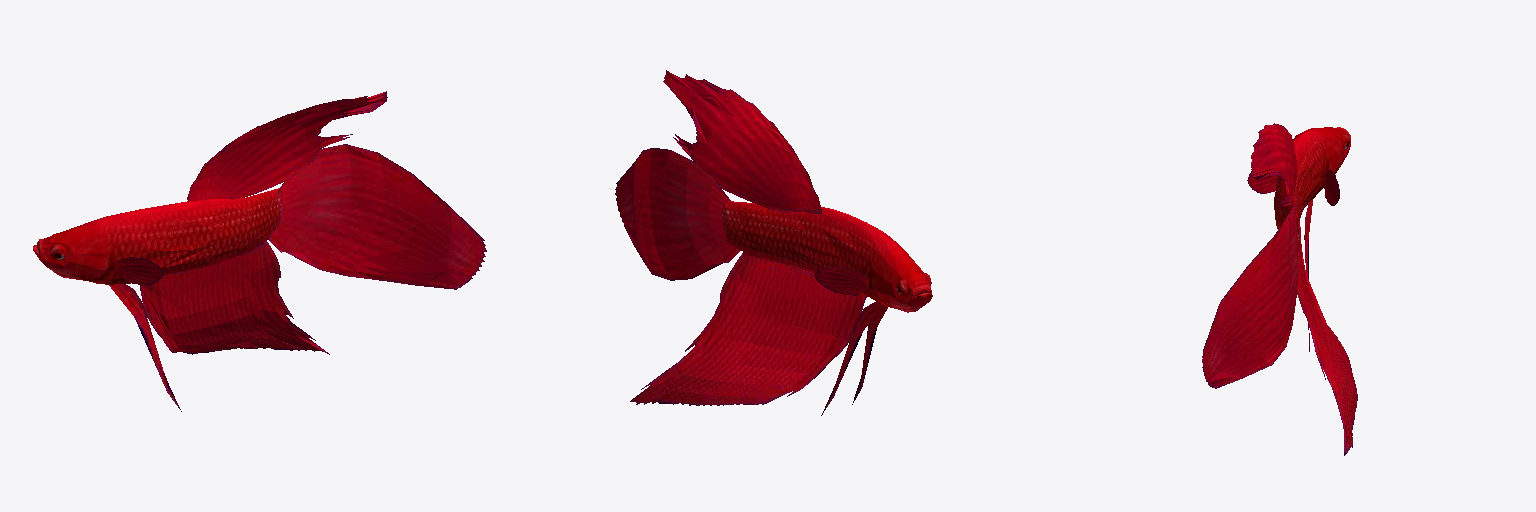
The picture shows the model from 3 angles: view 1: azimuth 30°, elevation 25°; view 2: azimuth 150°, elevation 25°; view 3: azimuth 270°, elevation 25°; orthographic projection.
Parts seen in each view (by area): view 1: object8, object, object7, object2, object5, object3; view 2: object7, object8, object, object2, object4, object6, object5; view 3: object8, object7, object, object2.
Part boxes in pixels (x1,y1,x2,y2): object8: (268, 144, 486, 289); object: (33, 188, 280, 284); object7: (140, 241, 329, 354); object2: (187, 91, 387, 201); object5: (109, 284, 181, 411); object3: (114, 257, 162, 285); object7: (630, 252, 866, 405); object8: (615, 148, 740, 280); object: (722, 201, 932, 312); object2: (663, 70, 821, 213); object4: (814, 266, 868, 295); object6: (821, 302, 883, 415); object5: (852, 306, 887, 404); object8: (1202, 206, 1298, 388); object7: (1297, 221, 1357, 455); object: (1274, 127, 1350, 250); object2: (1251, 123, 1296, 206).
Size of the model in its own units: 389 by 287 by 137.
1 materials, 1 textured.